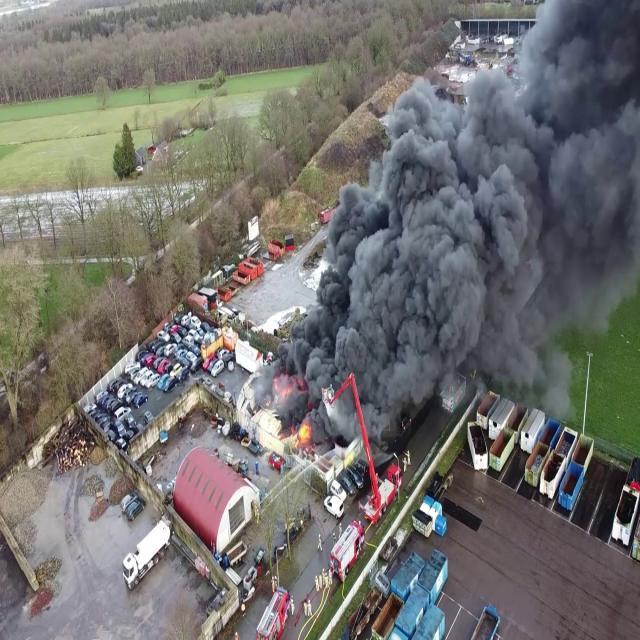Smoke: (278, 7, 640, 421)
